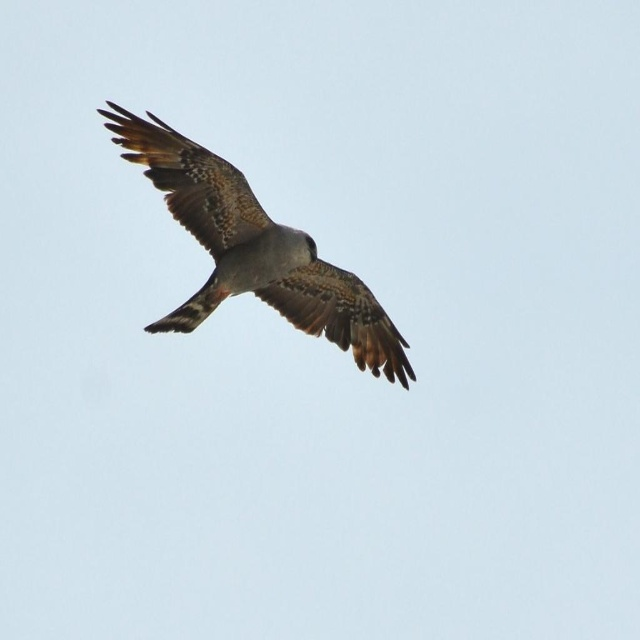Eagle: (92, 95, 418, 390)
